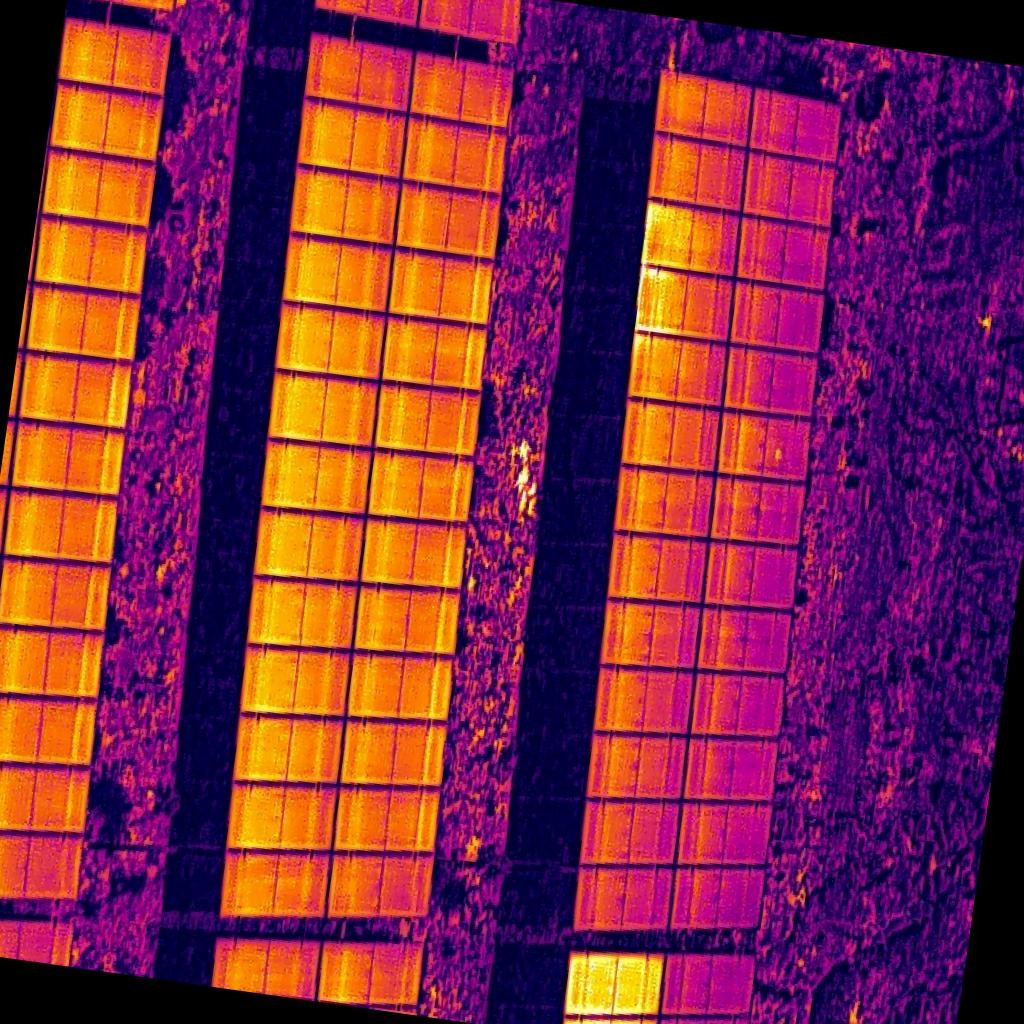panel: (42, 151, 157, 226), (10, 421, 124, 493), (27, 287, 140, 359), (367, 449, 474, 522), (411, 53, 517, 126), (353, 587, 460, 654), (220, 852, 330, 917), (629, 335, 727, 406), (594, 667, 694, 733), (565, 954, 666, 1014), (679, 804, 771, 865)
